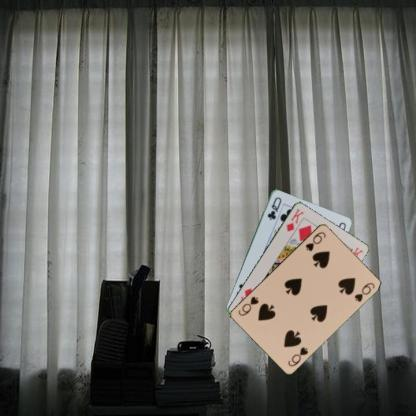6s: (285, 344, 310, 367), (303, 229, 327, 252)
Kd: (284, 206, 305, 233)
Qc: (264, 194, 283, 221)
